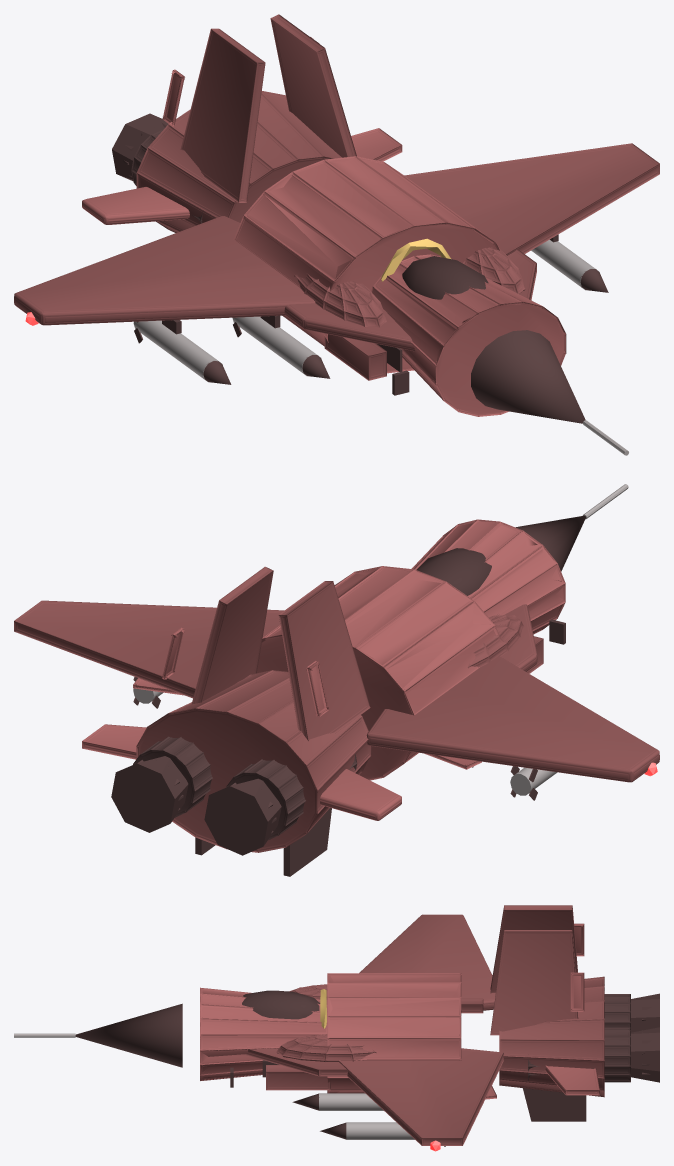
The model's file is enemy_jet.glb.
3 renders of one model, top to bottom at view 1: azimuth 30°, elevation 25°; view 2: azimuth 150°, elevation 25°; view 3: azimuth 270°, elevation 25°, orthographic. The views are drawn at different scales.
Parts seen in each view (by area): view 1: Airframe; view 2: Airframe; view 3: Airframe.
Part boxes in pixels (left/top/right/bottom): Airframe: left=14, top=14, right=659, bottom=455; Airframe: left=14, top=484, right=659, bottom=876; Airframe: left=14, top=905, right=659, bottom=1146.
Size of what is drawn, in the model's own units: 7.86 by 3 by 9.42.
